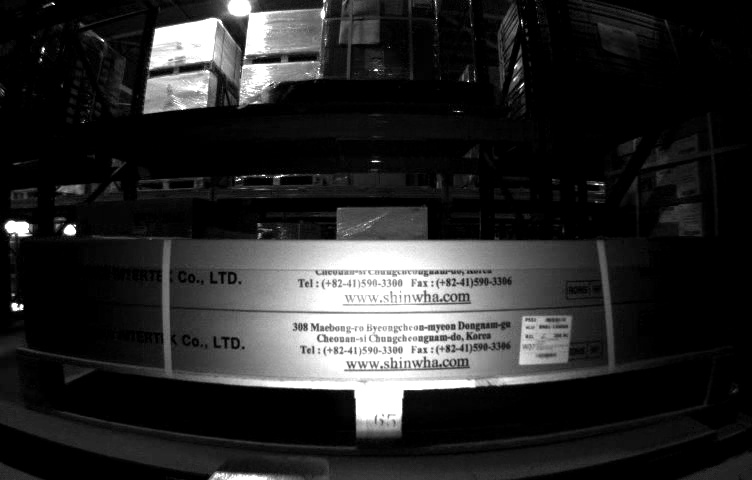True Barcode: (522, 313, 571, 367)
